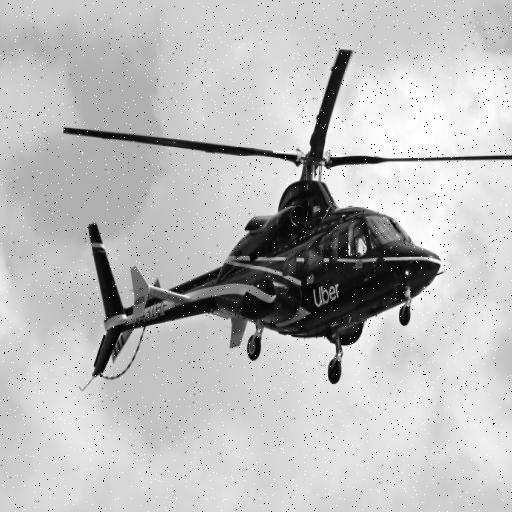helicopter: (59, 42, 512, 390)
